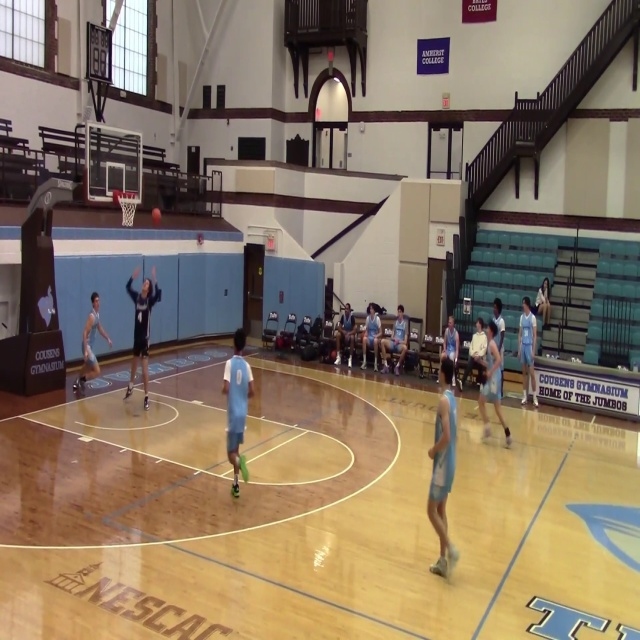Basketball: (151, 207, 161, 225)
